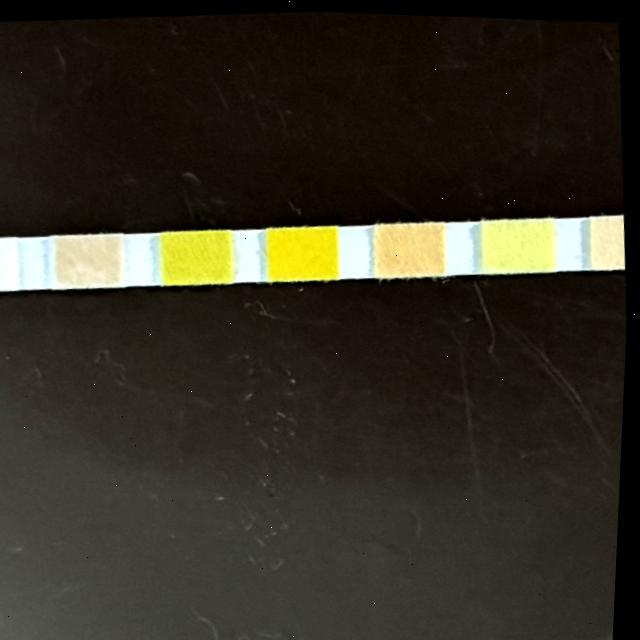Bilirubin: (0, 238, 20, 292)
Blood: (271, 221, 342, 278)
Ketone: (53, 232, 124, 289)
Protein: (486, 213, 557, 270)
SpGravity: (164, 226, 235, 283)
Urobilinogen: (593, 210, 628, 264)
pH: (377, 218, 448, 275)
